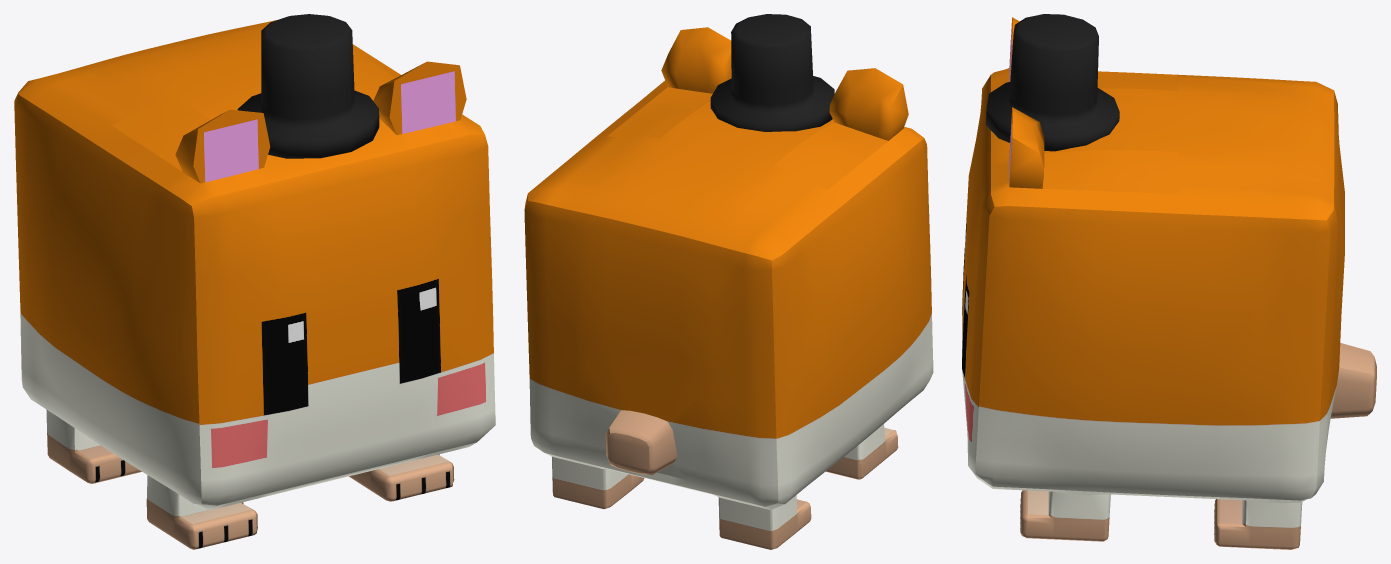
Rendered from TopHatRun.fbx.
3 views of the same model, side by side, from view 1: azimuth 30°, elevation 25°; view 2: azimuth 150°, elevation 25°; view 3: azimuth 270°, elevation 25° (orthographic). The views are drawn at different scales.
Visible parts, largest first — view 1: bag_new:pCube9; view 2: bag_new:pCube9; view 3: bag_new:pCube9.
Boxes of the visible parts, <box> form: bag_new:pCube9: <box>14,14,495,549</box>; bag_new:pCube9: <box>524,14,933,549</box>; bag_new:pCube9: <box>962,14,1376,549</box>.
Bounding box in the file's own units: 4.23 × 5.89 × 4.78.
